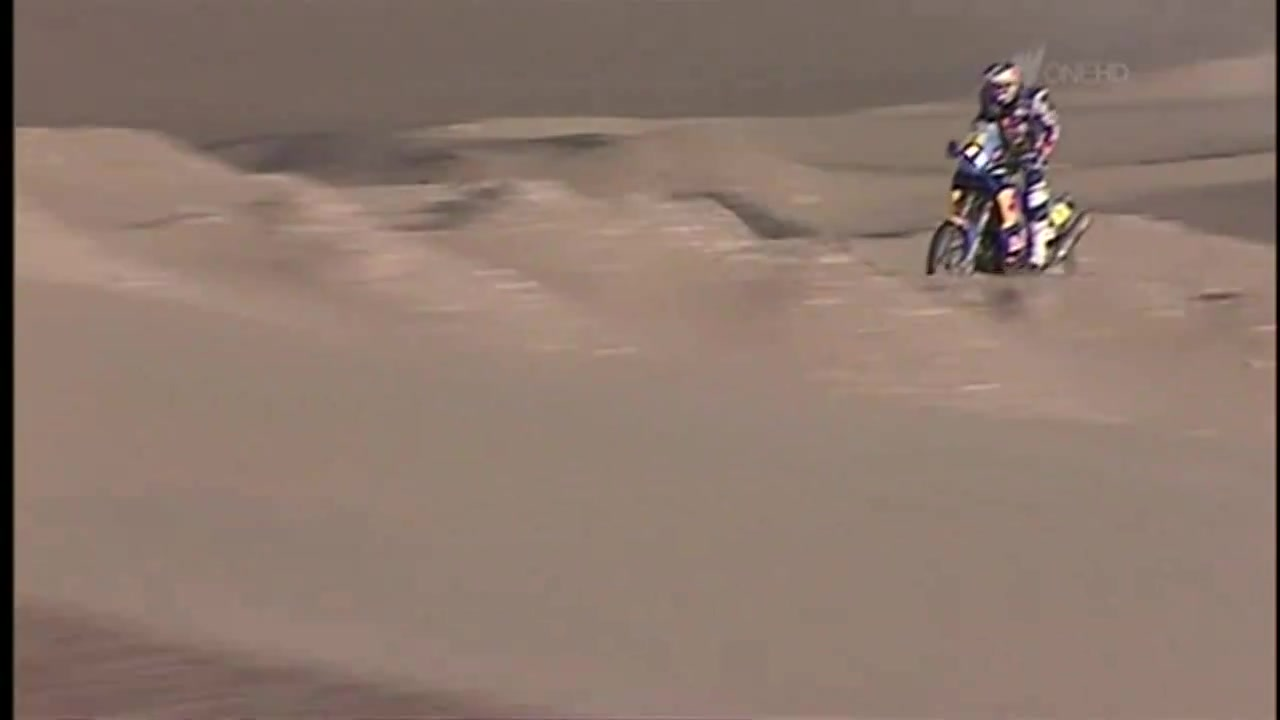motorbike: (918, 143, 1096, 284)
